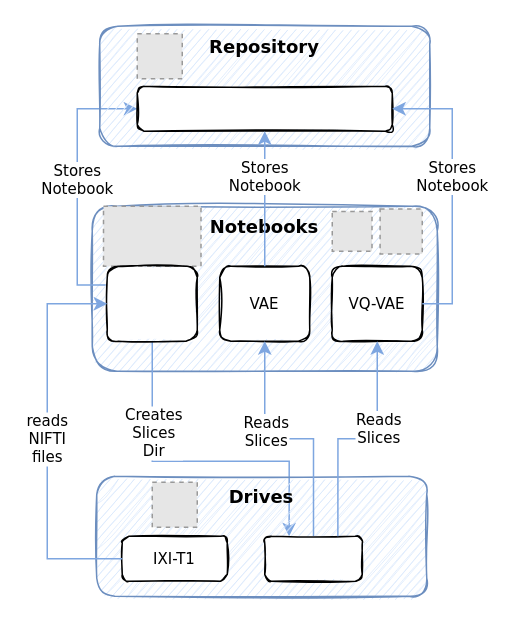
This 513x623 diagram has some shape labels left out. Grey dashed boxes stand in for pictures. The shapes that lost their labels are listed below. From the top down, each one's centre as x and y in pixels, then its label:
At (264,108): "mtablado/uoc2022_tfm".
At (151,303): "MRI".
At (312,558): "Slices".
